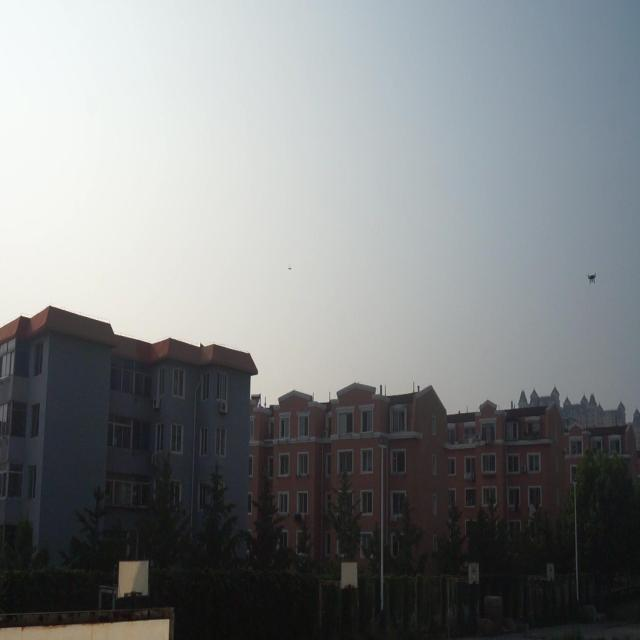drone: (585, 268, 598, 286)
